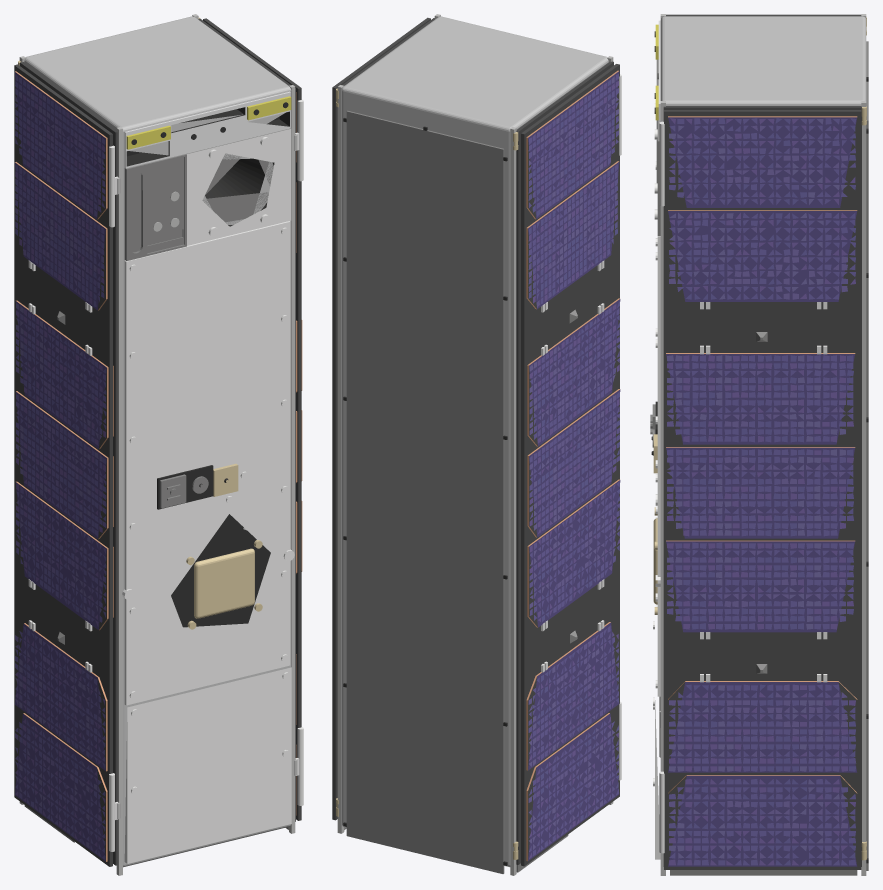
Rendered from cubesat-icecube.glb.
3 views of the same model, side by side, from view 1: azimuth 30°, elevation 25°; view 2: azimuth 150°, elevation 25°; view 3: azimuth 270°, elevation 25° (orthographic). The views are drawn at different scales.
Parts seen in each view (by area): view 1: Layer_0, Layer_3, Layer_5, Layer_2, Layer_4; view 2: Layer_0, Layer_3, Layer_5, Layer_2; view 3: Layer_5, Layer_0, Layer_4, Layer_3.
Boxes of the visible parts, box(x1,y1,x2,y2) form: Layer_0: box(18, 14, 295, 875); Layer_3: box(14, 64, 118, 866); Layer_5: box(203, 18, 303, 820); Layer_2: box(20, 62, 120, 865); Layer_4: box(198, 18, 297, 821); Layer_0: box(336, 14, 613, 875); Layer_3: box(521, 64, 621, 866); Layer_5: box(332, 17, 430, 820); Layer_2: box(514, 61, 613, 864); Layer_5: box(659, 110, 861, 869); Layer_0: box(650, 14, 868, 875); Layer_4: box(663, 106, 866, 866); Layer_3: box(659, 14, 861, 757).
Bounding box in the file's own units: 2.34 × 8.29 × 2.12.
